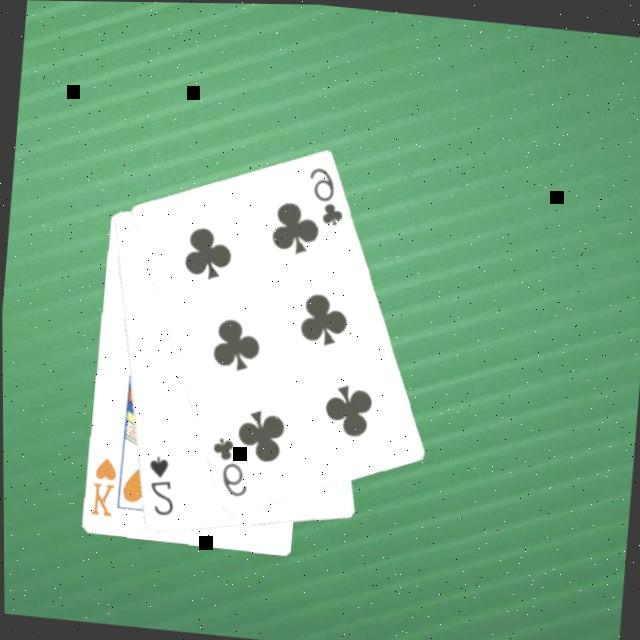2S: (138, 449, 178, 518)
6C: (202, 430, 252, 499), (300, 160, 348, 228)
KH: (84, 451, 119, 518)
